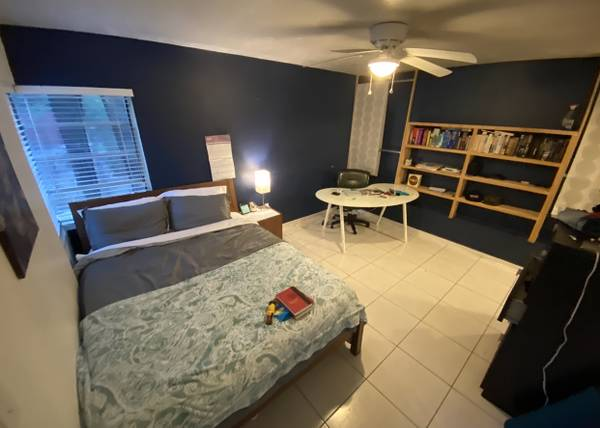bed: (71, 184, 358, 428)
lamp: (252, 170, 272, 210)
